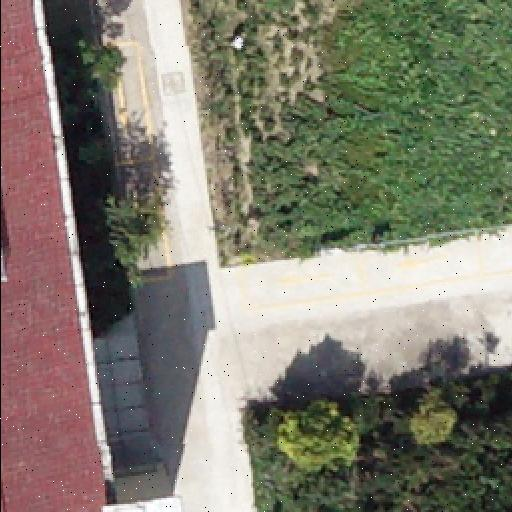solar-panel: (1, 242, 7, 278)
